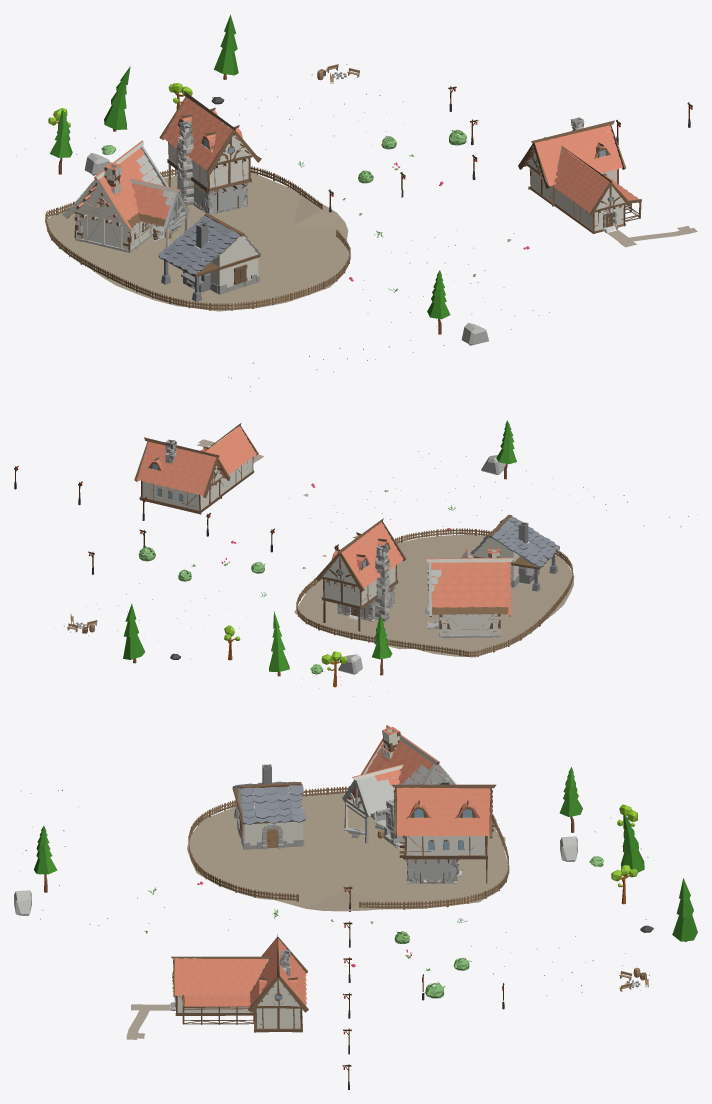
The model's file is chunk_0_1_lod0.glb.
The picture shows the model from 3 angles, top to bottom: view 1: azimuth 30°, elevation 25°; view 2: azimuth 150°, elevation 25°; view 3: azimuth 270°, elevation 25°; orthographic projection. The views are drawn at different scales.
Parts seen in each view (by area): view 1: Batched_chunk_0_1; view 2: Batched_chunk_0_1; view 3: Batched_chunk_0_1.
Boxes of the visible parts, <box> form: Batched_chunk_0_1: <box>16,14,697,391</box>; Batched_chunk_0_1: <box>14,420,697,696</box>; Batched_chunk_0_1: <box>14,725,697,1089</box>.
Bounding box in the file's own units: 99.84 × 15.07 × 96.45.
Materials: 42 (2 with a texture image).
